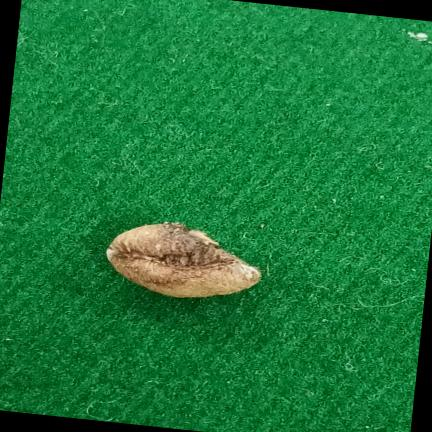partial-black: (106, 222, 261, 298)
